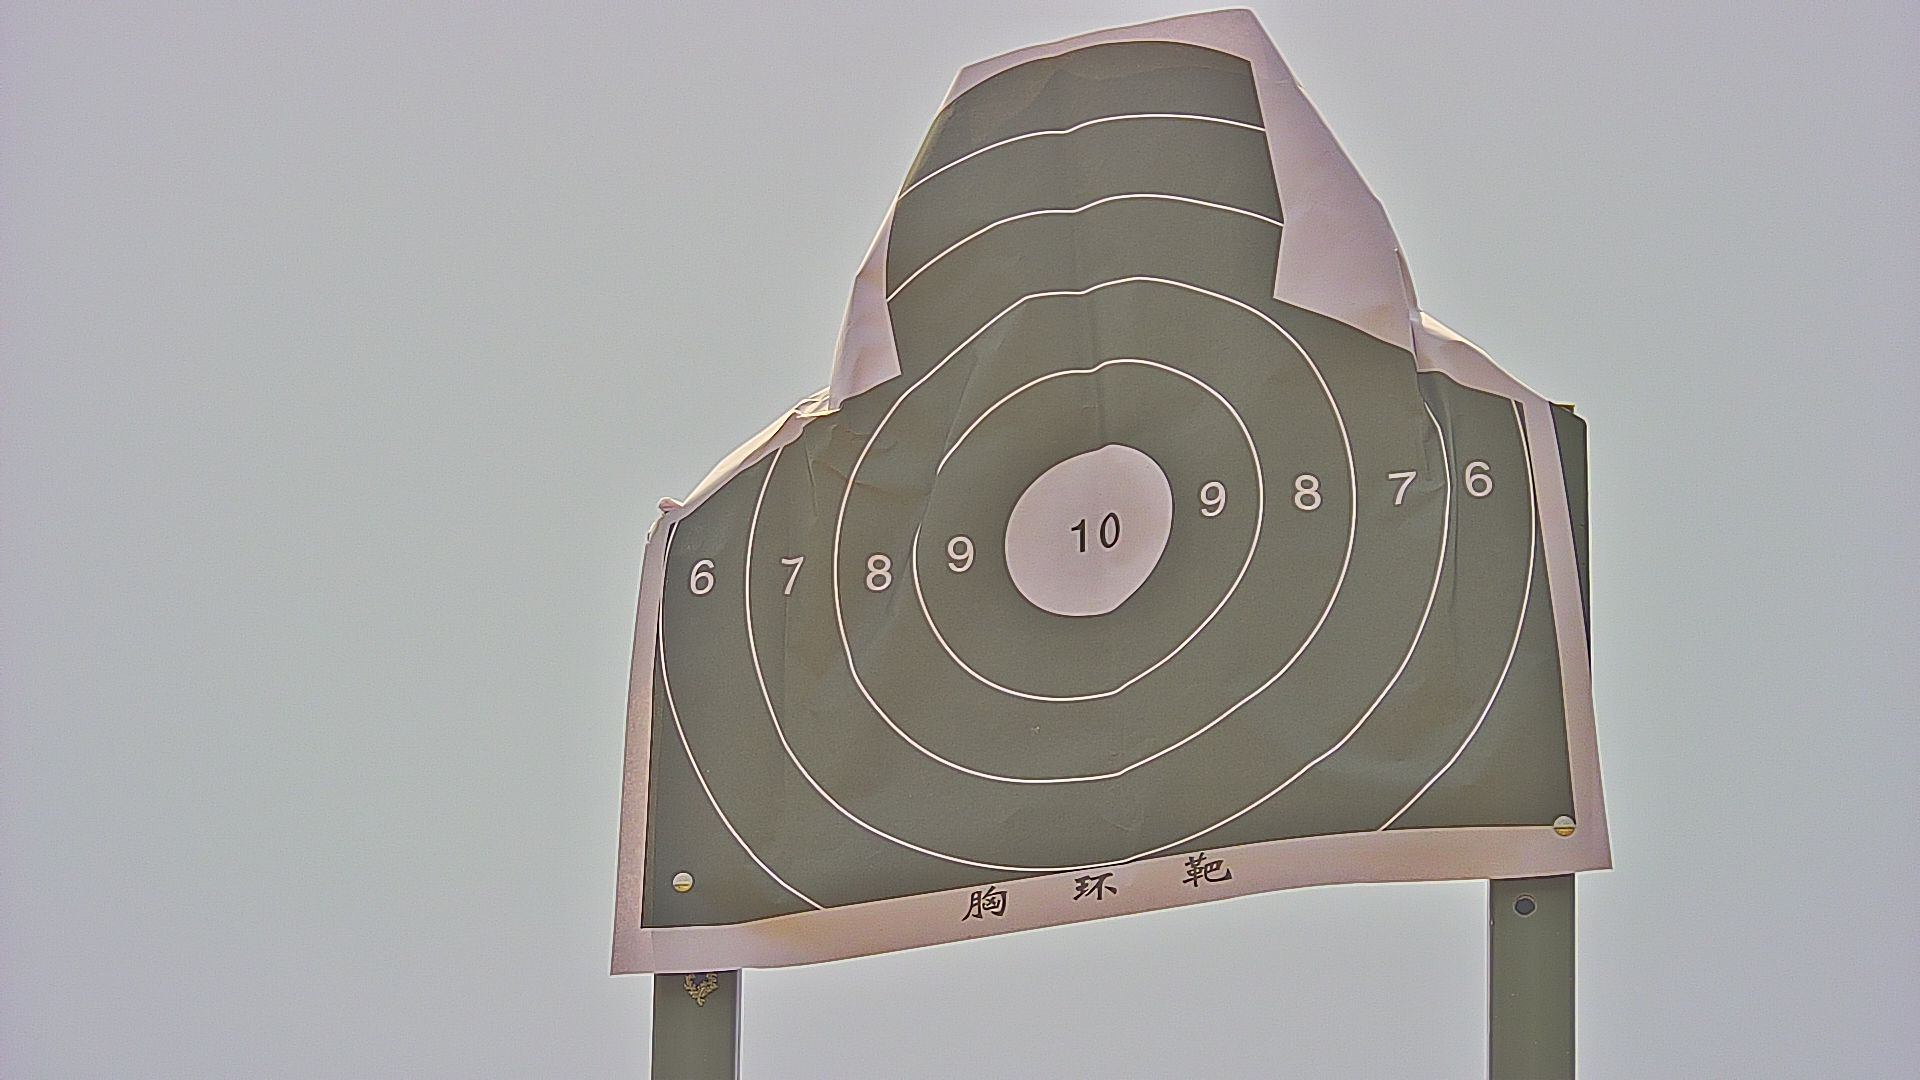kernel: (1091, 534, 1095, 537)
target: (636, 41, 1577, 928)
ten: (1000, 442, 1174, 616)
